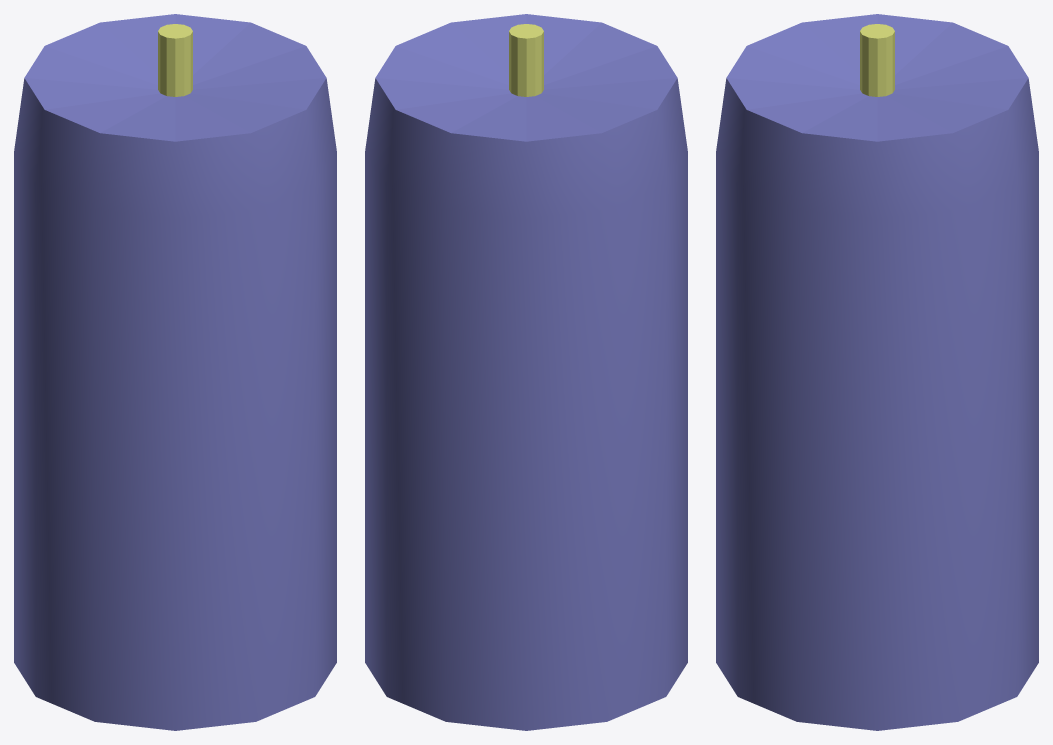
Rendered from Candle.fbx.
3 views of the same model, side by side, from view 1: azimuth 30°, elevation 25°; view 2: azimuth 150°, elevation 25°; view 3: azimuth 270°, elevation 25° (orthographic).
Visible parts, largest first — view 1: Candle; view 2: Candle; view 3: Candle.
Boxes of the visible parts, x1,y1,x2,y2 form: Candle: (14,14,336,730); Candle: (365,14,687,730); Candle: (716,14,1038,730).
Size of the model in its own units: 10 by 21.59 by 10.
